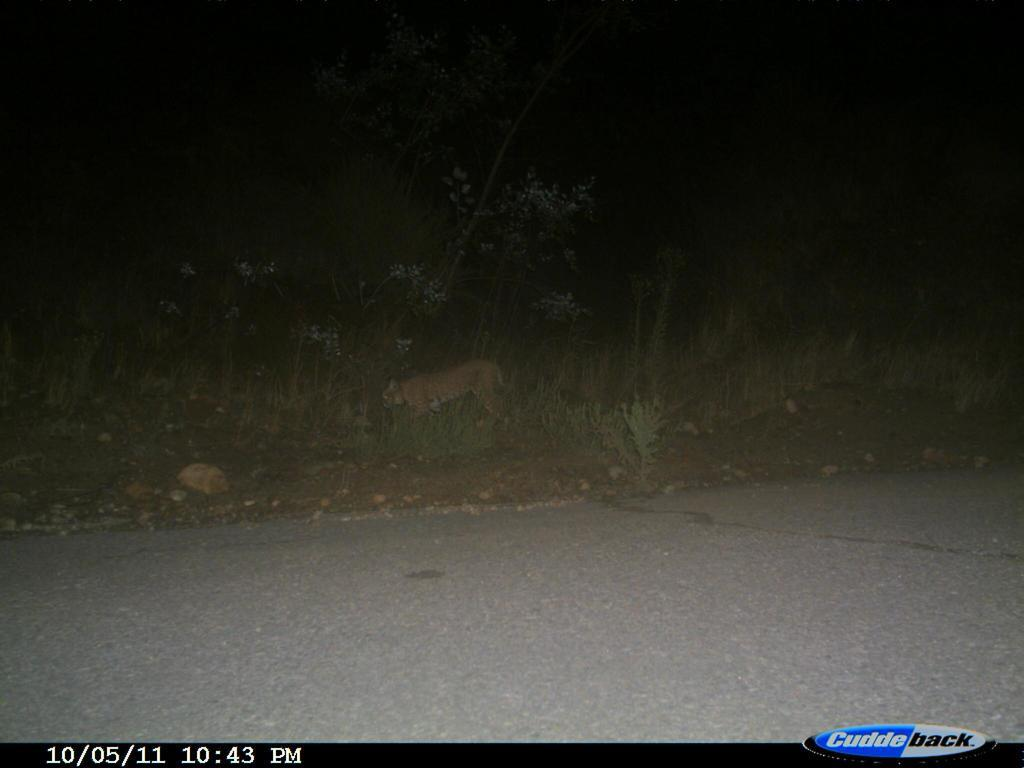bobcat: (377, 354, 510, 428)
